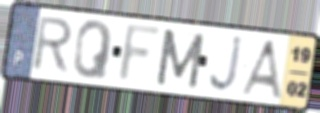A: (237, 38, 284, 102)
F: (115, 21, 166, 85)
J: (207, 34, 245, 95)
M: (153, 27, 207, 91)
Q: (71, 19, 115, 82)
R: (29, 15, 76, 75)
